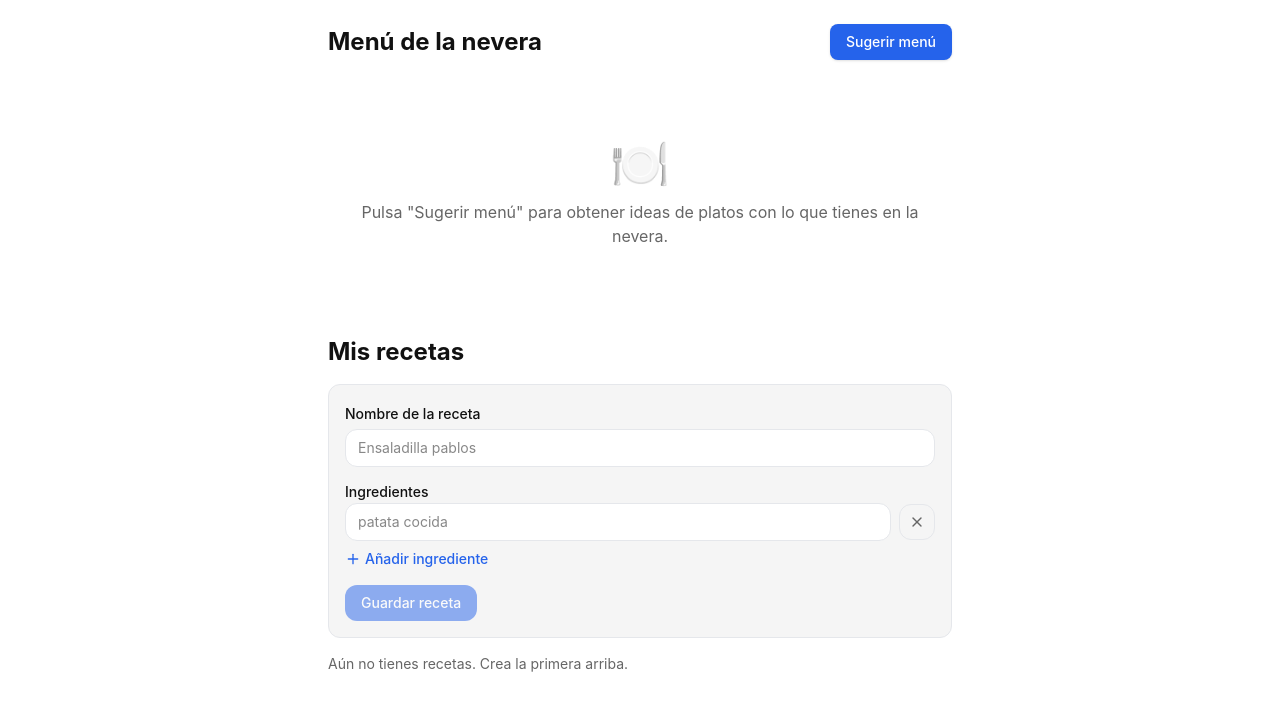
Scenario: MenuPage › la barra de "Añadir a la lista" aparece cuando hay ingredientes faltantes
Step 1. Click the button "Sugerir menú" → (891,42), box 830,24 -> 952,60
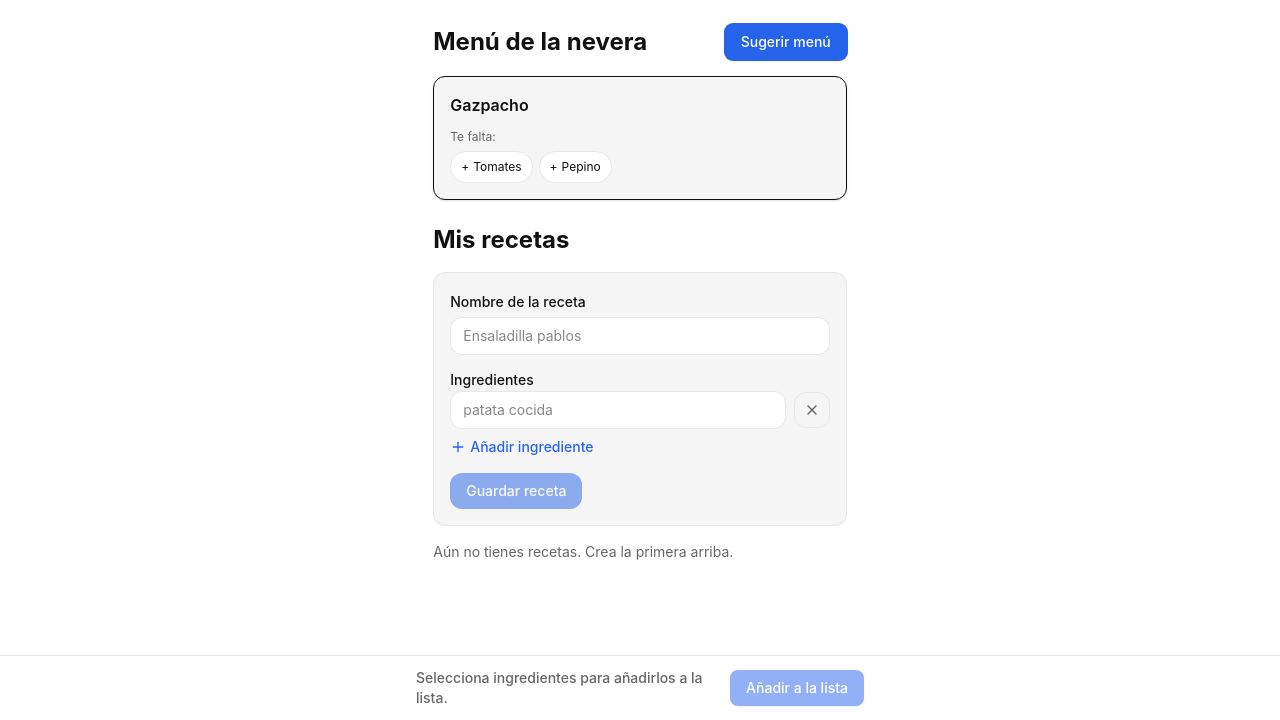
Expected: the button with aria-label "añadir ingredientes seleccionados" is shown, 730,670 -> 864,706
